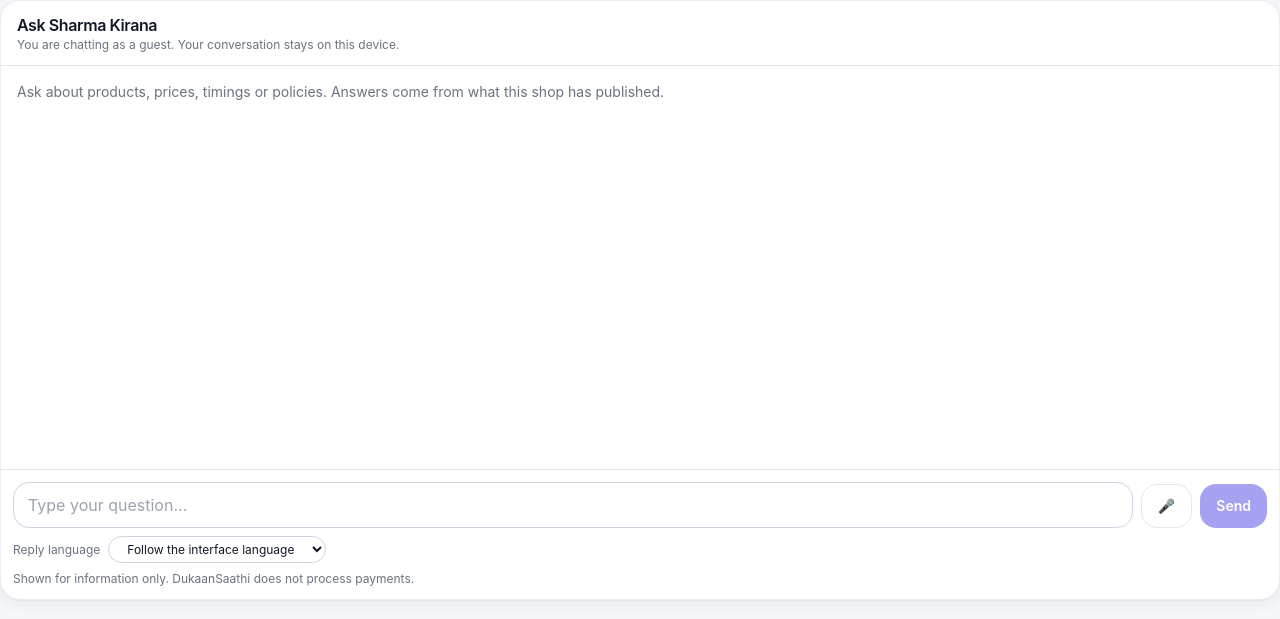
Test: first message carries the server-issued guest token › sends X-Guest-Token on the very first POST and receives a reply
Type "হ্যালো" into the text box labelled "Type your question…" at (573, 505), box [13,482,1133,528]
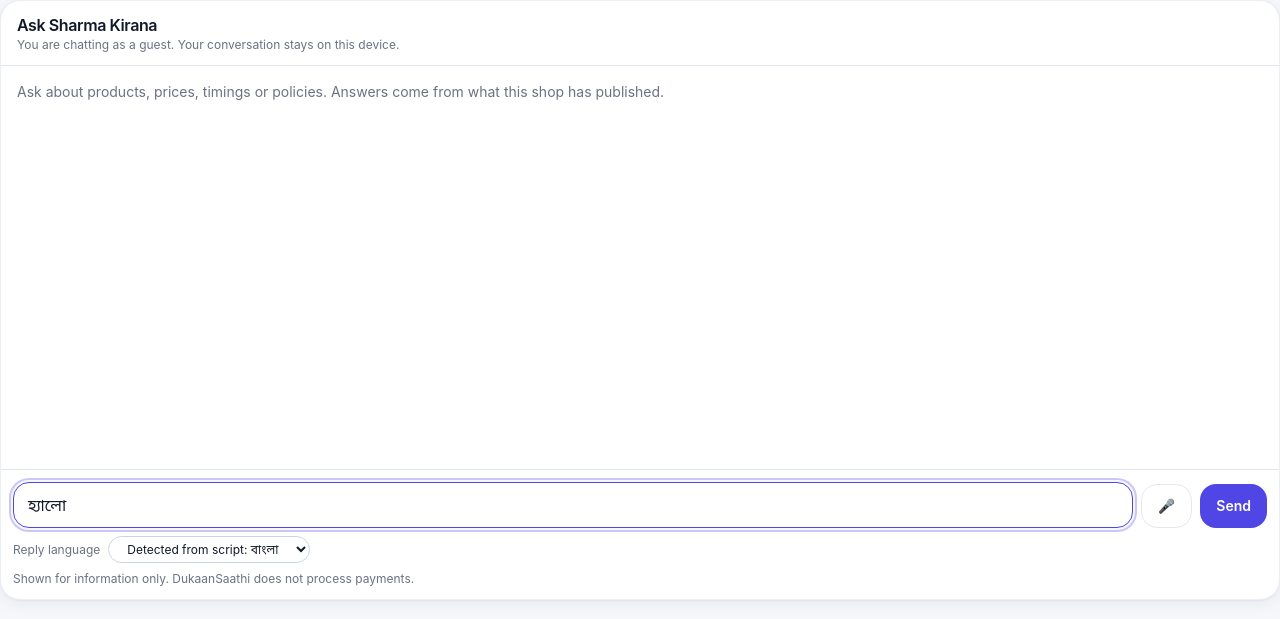
Click the button "Send" at (1234, 506), box [1200,484,1267,528]
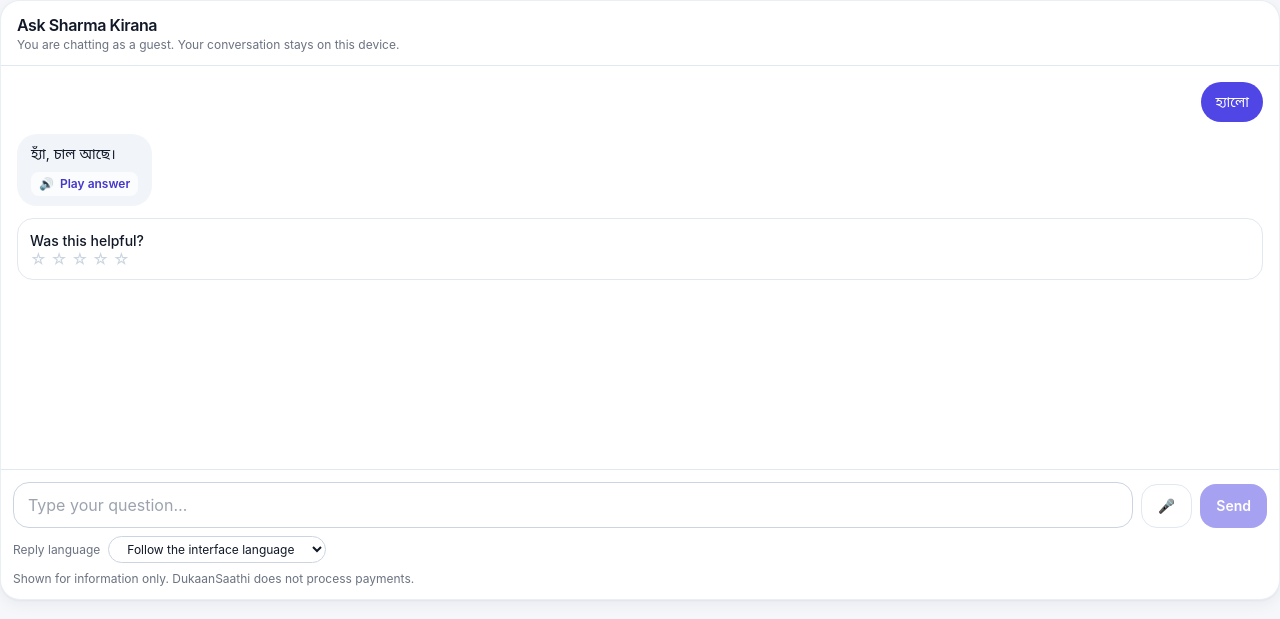
Now the text "হ্যাঁ, চাল আছে।" is shown, box [31,145,116,162]
